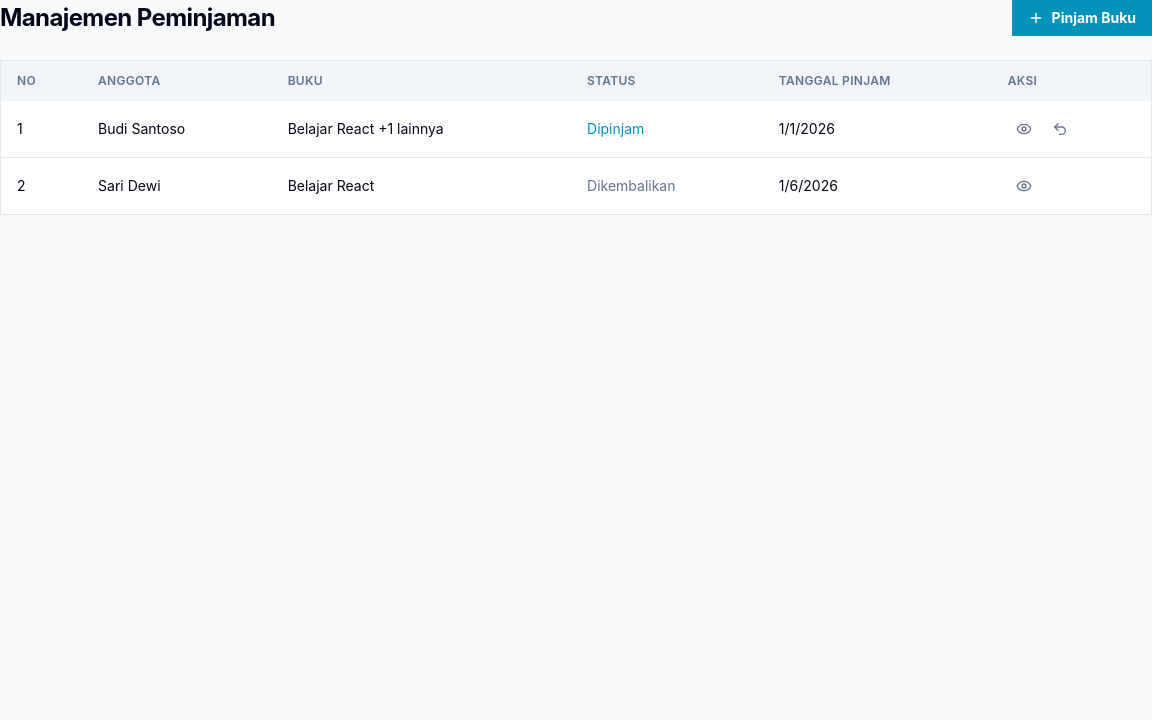
Test: LoansPage › returns a loan after confirmation and reloads the list
Expected: the text "Belajar React +1 lainnya" is shown, x1=272 y1=101 x2=571 y2=158
Click the button named "Kembalikan" at (1060,129), box x1=1044 y1=113 x2=1076 y2=145
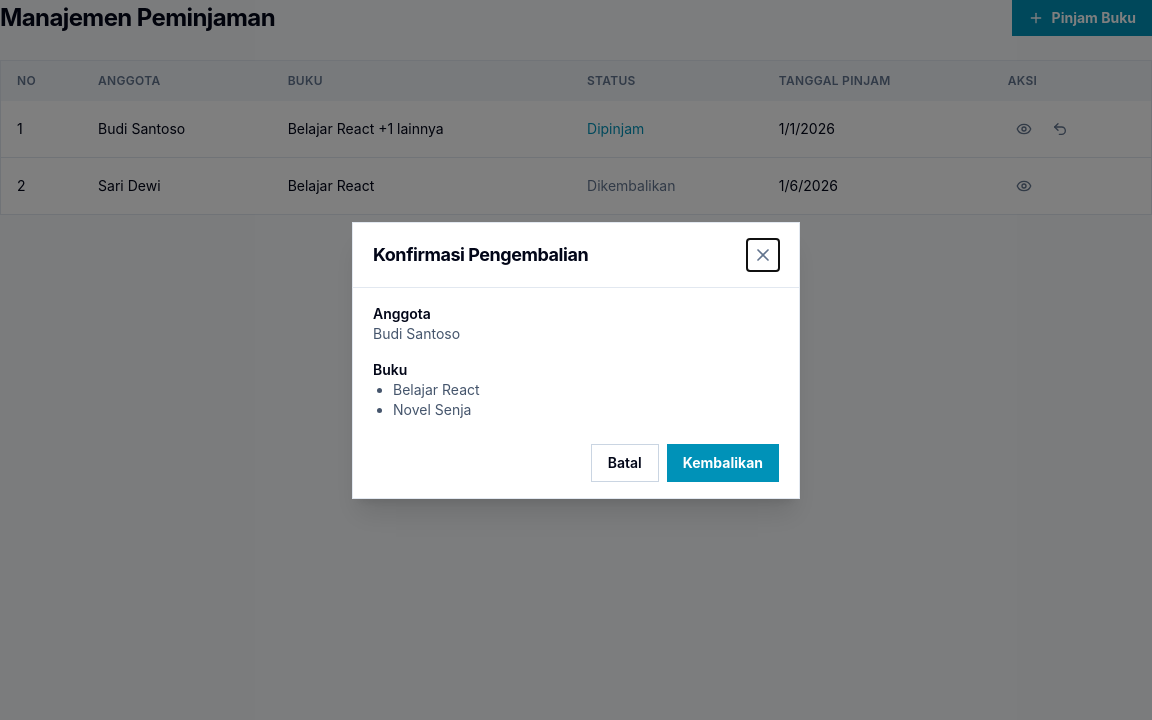
Expected: the text "Budi Santoso" is shown, x1=373 y1=324 x2=460 y2=342
Expected: the list item "Belajar React" is shown, x1=393 y1=380 x2=480 y2=398
Expected: the list item "Novel Senja" is shown, x1=393 y1=400 x2=471 y2=418
Click the button "Kembalikan" at (723,462), box x1=667 y1=444 x2=779 y2=482
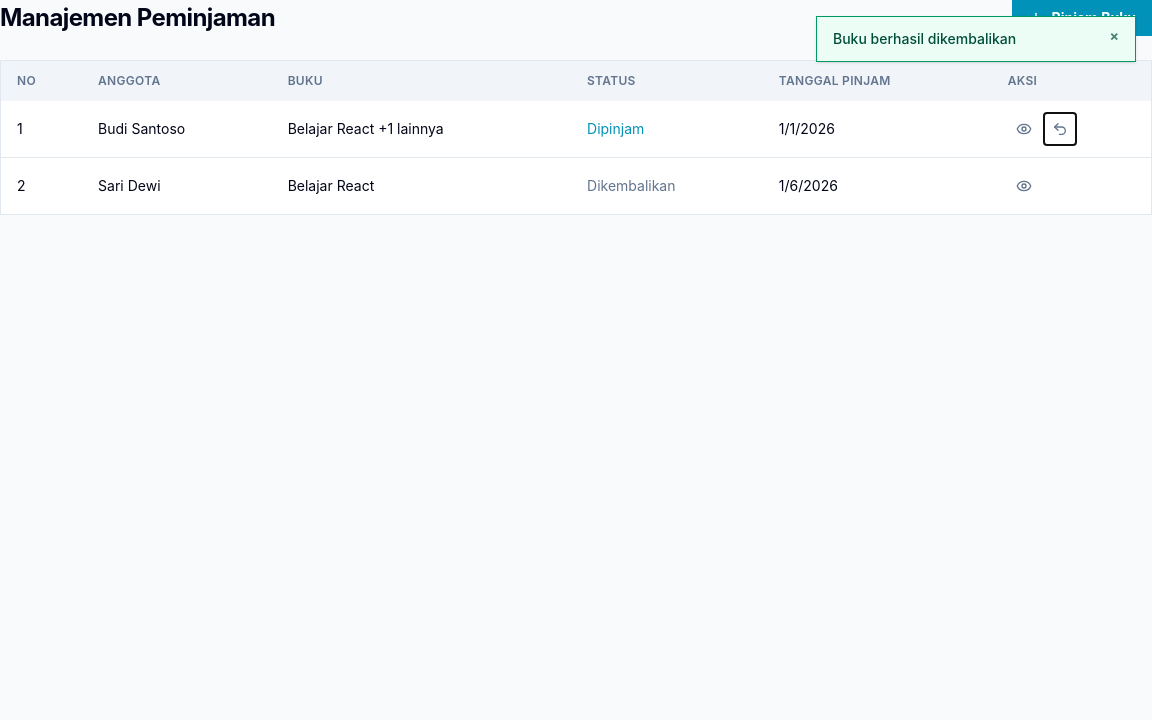
Expected: the text "Buku berhasil dikembalikan" is shown, x1=833 y1=29 x2=1016 y2=49
